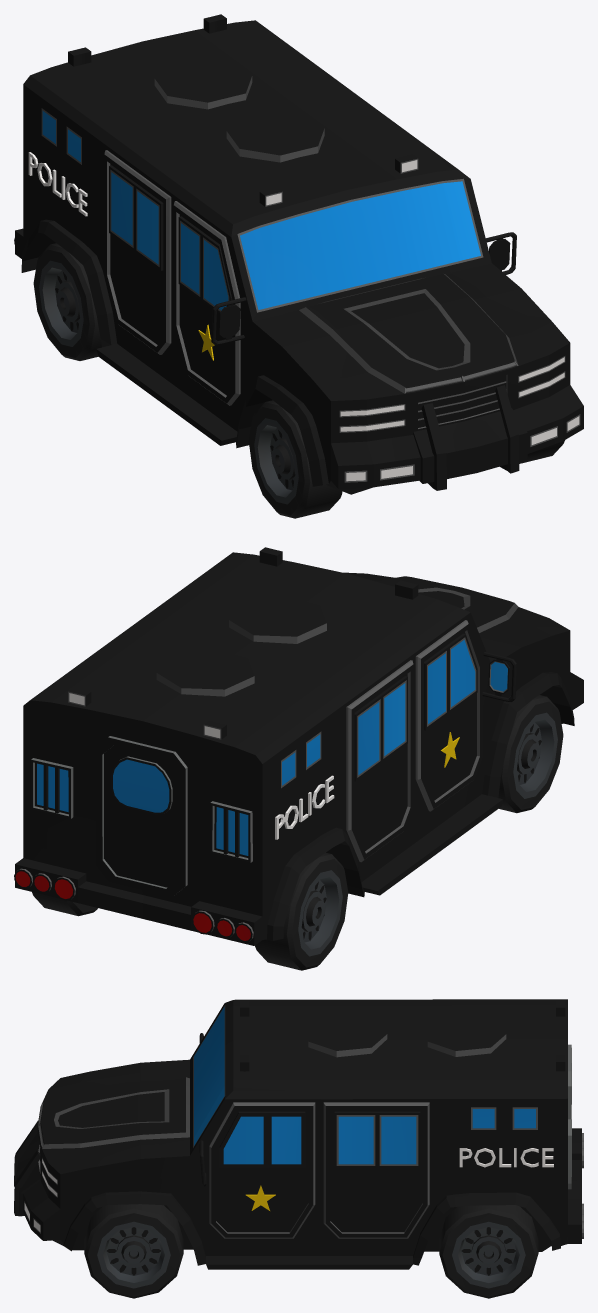
The model's file is Military Vehicle_3.fbx.
3 renders of one model, top to bottom at view 1: azimuth 30°, elevation 25°; view 2: azimuth 150°, elevation 25°; view 3: azimuth 270°, elevation 25°, orthographic. The views are drawn at different scales.
Visible parts, largest first — view 1: Military Vehicle_3; view 2: Military Vehicle_3; view 3: Military Vehicle_3.
Boxes of the visible parts, x1,y1,x2,y2 form: Military Vehicle_3: (14,14,583,518); Military Vehicle_3: (14,547,583,970); Military Vehicle_3: (14,999,583,1298).
Bounding box in the file's own units: 328 × 269 × 647.
1 material, 1 textured.
